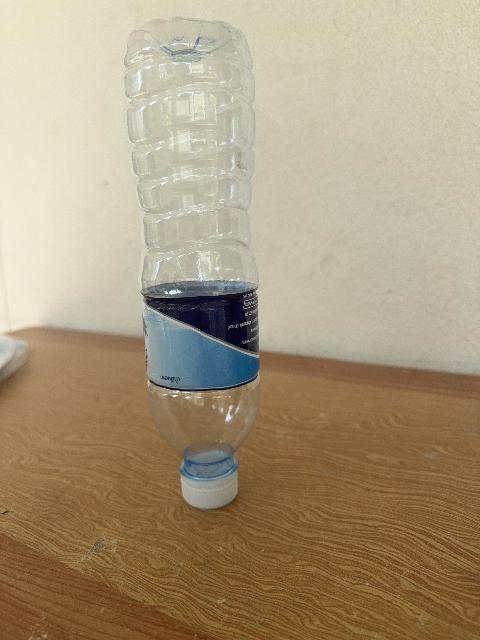bottle: (125, 18, 259, 508)
